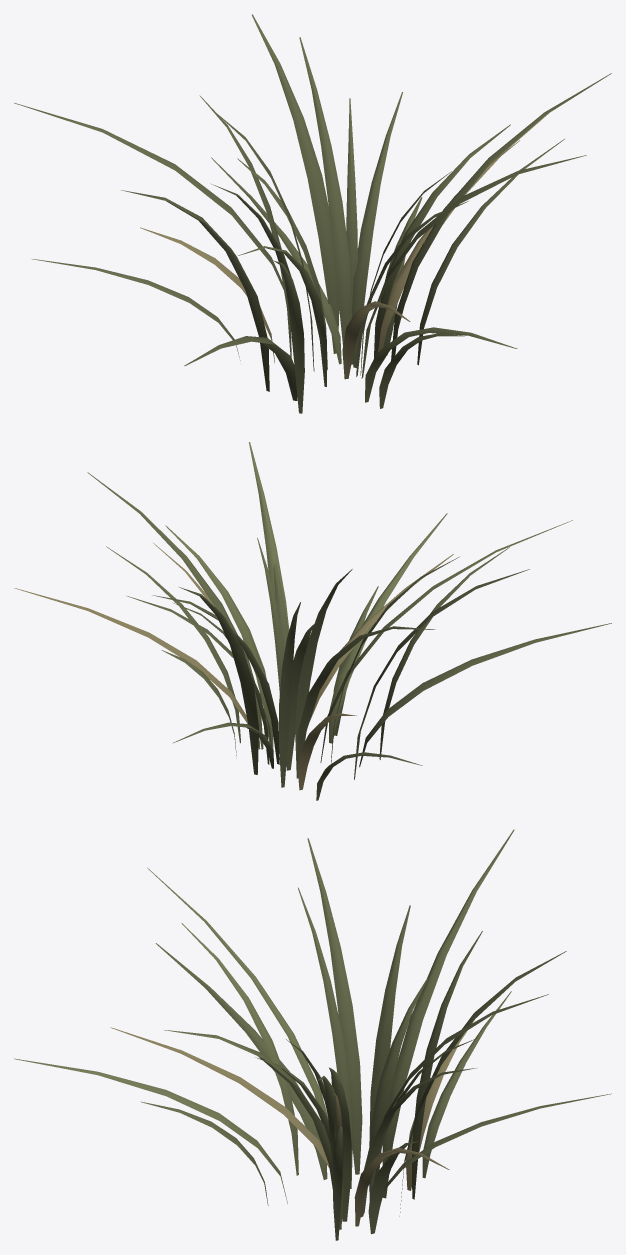
The picture shows the model from 3 angles, top to bottom: view 1: azimuth 30°, elevation 25°; view 2: azimuth 150°, elevation 25°; view 3: azimuth 270°, elevation 25°; orthographic projection. The views are drawn at different scales.
Parts seen in each view (by area): view 1: ground_meadow_near; view 2: ground_meadow_near; view 3: ground_meadow_near.
Part boxes in pixels (<box>): ground_meadow_near: <box>14,14,611,413</box>; ground_meadow_near: <box>14,442,611,800</box>; ground_meadow_near: <box>14,829,611,1240</box>.
Size of the model in its own units: 1.06 by 0.5316 by 1.08.
